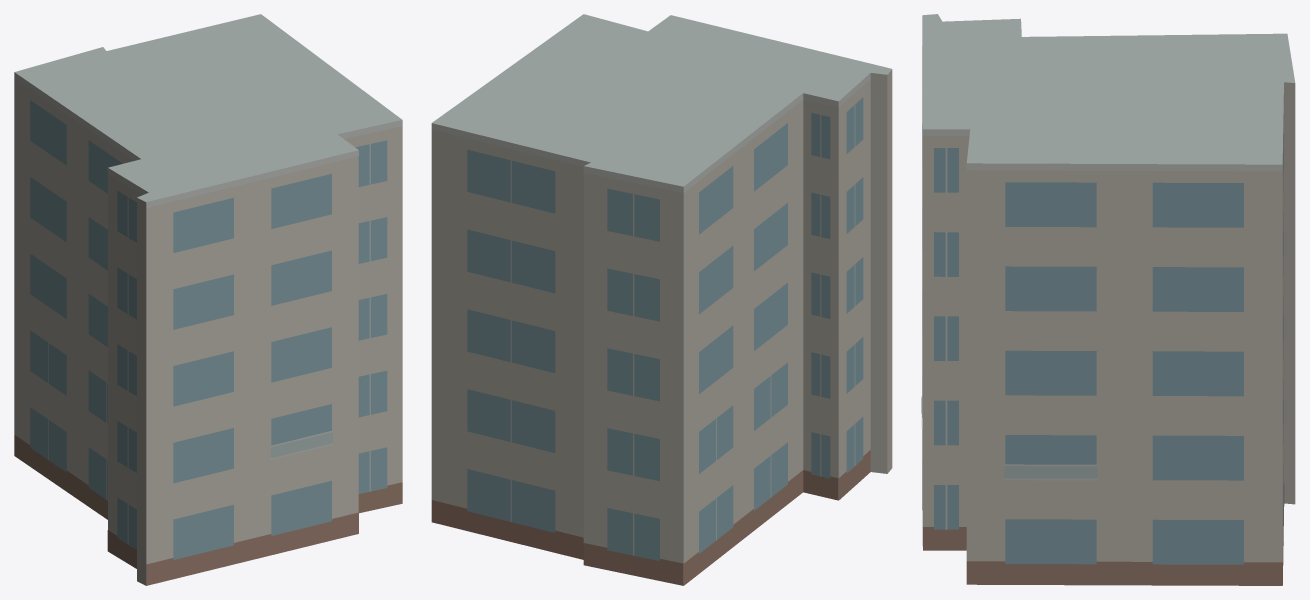
Rendered from survey-upis-33012776.glb.
3 views of the same model, side by side, from view 1: azimuth 30°, elevation 25°; view 2: azimuth 150°, elevation 25°; view 3: azimuth 270°, elevation 25° (orthographic). The views are drawn at different scales.
Parts seen in each view (by area): view 1: survey-upis-33012776.tmp; view 2: survey-upis-33012776.tmp; view 3: survey-upis-33012776.tmp.
Boxes of the visible parts, box(x1,y1,x2,y2) form: survey-upis-33012776.tmp: box(14, 14, 402, 585); survey-upis-33012776.tmp: box(431, 14, 892, 585); survey-upis-33012776.tmp: box(921, 14, 1295, 585).
Size of the model in its own units: 11.7 by 15.25 by 12.27.
